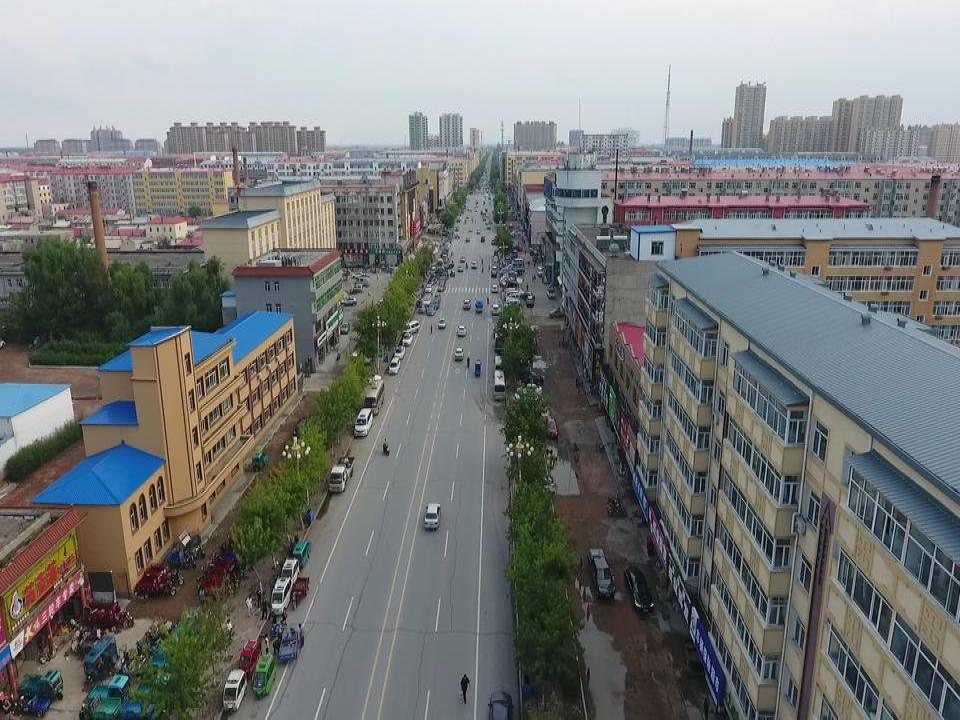car: (625, 564, 654, 612), (588, 547, 614, 596), (486, 689, 512, 720), (425, 504, 441, 529), (522, 370, 544, 386), (293, 416, 309, 437), (544, 414, 557, 439), (493, 354, 507, 370), (364, 371, 381, 384), (388, 355, 400, 373), (392, 345, 405, 359), (340, 298, 358, 306), (402, 332, 413, 345), (550, 307, 564, 317), (351, 271, 366, 280), (546, 286, 557, 298), (340, 321, 349, 335), (456, 324, 466, 336), (490, 302, 500, 314), (462, 298, 471, 310), (455, 348, 464, 360), (438, 318, 446, 330), (426, 305, 435, 315), (422, 296, 431, 305), (431, 299, 439, 309), (490, 284, 498, 292), (438, 284, 446, 292), (419, 304, 426, 313), (434, 294, 441, 301), (471, 262, 477, 270), (426, 284, 432, 292), (457, 264, 463, 272), (464, 236, 470, 243), (460, 254, 465, 262), (468, 225, 473, 232), (476, 228, 480, 233)
truck: (332, 456, 355, 492)
van: (366, 378, 385, 411), (356, 407, 373, 436), (494, 369, 509, 398), (494, 330, 505, 350), (404, 321, 419, 332), (356, 277, 370, 287), (351, 284, 363, 293)
